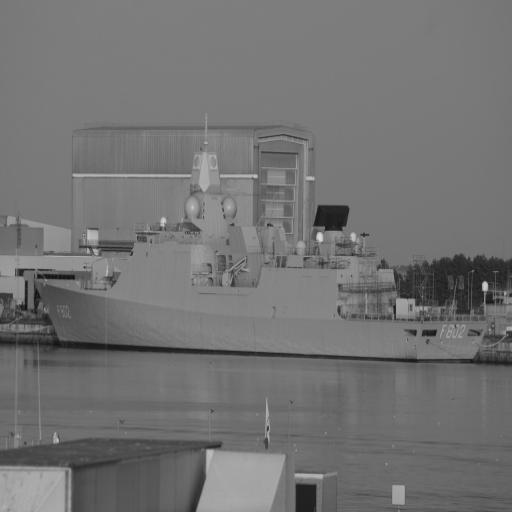Fragata: (33, 105, 492, 371)
